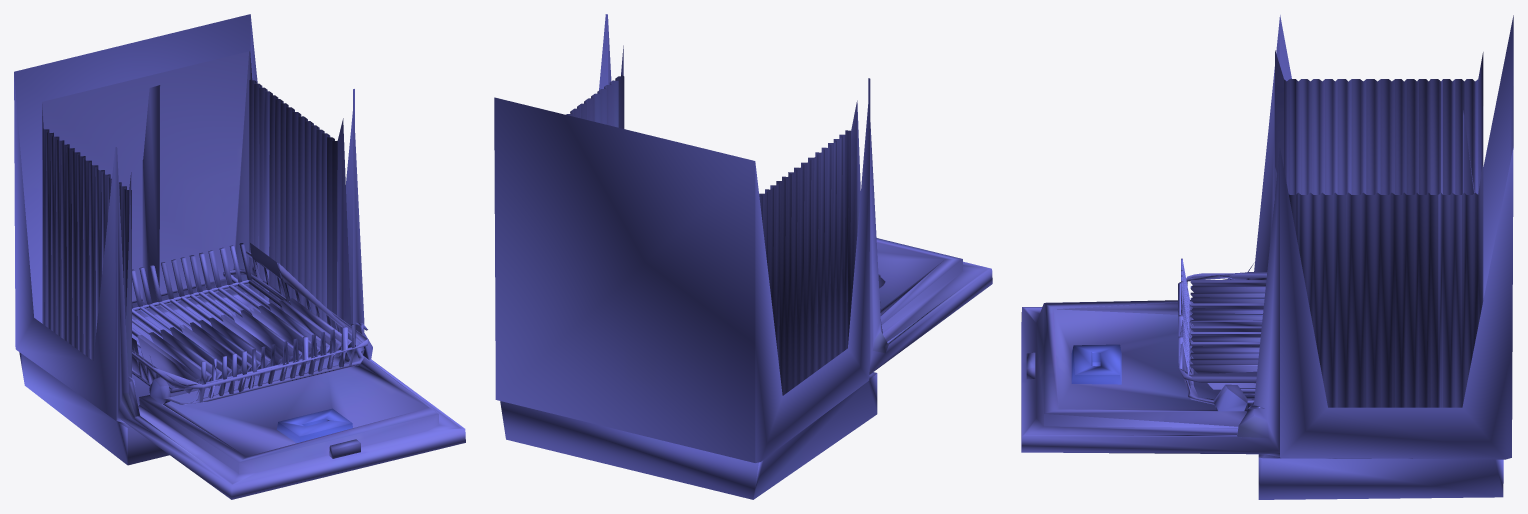
Rendered from model.progressive.glb.
3 views of the same model, side by side, from view 1: azimuth 30°, elevation 25°; view 2: azimuth 150°, elevation 25°; view 3: azimuth 270°, elevation 25° (orthographic). The views are drawn at different scales.
Parts seen in each view (by area): view 1: texture_pbr_20250901; view 2: texture_pbr_20250901; view 3: texture_pbr_20250901.
Boxes of the visible parts, x1,y1,x2,y2 form: texture_pbr_20250901: [14, 14, 465, 499]; texture_pbr_20250901: [494, 14, 992, 499]; texture_pbr_20250901: [1021, 15, 1513, 499].
Size of the model in its own units: 1.21 by 1.5 by 1.88.
1 material, 1 textured.
